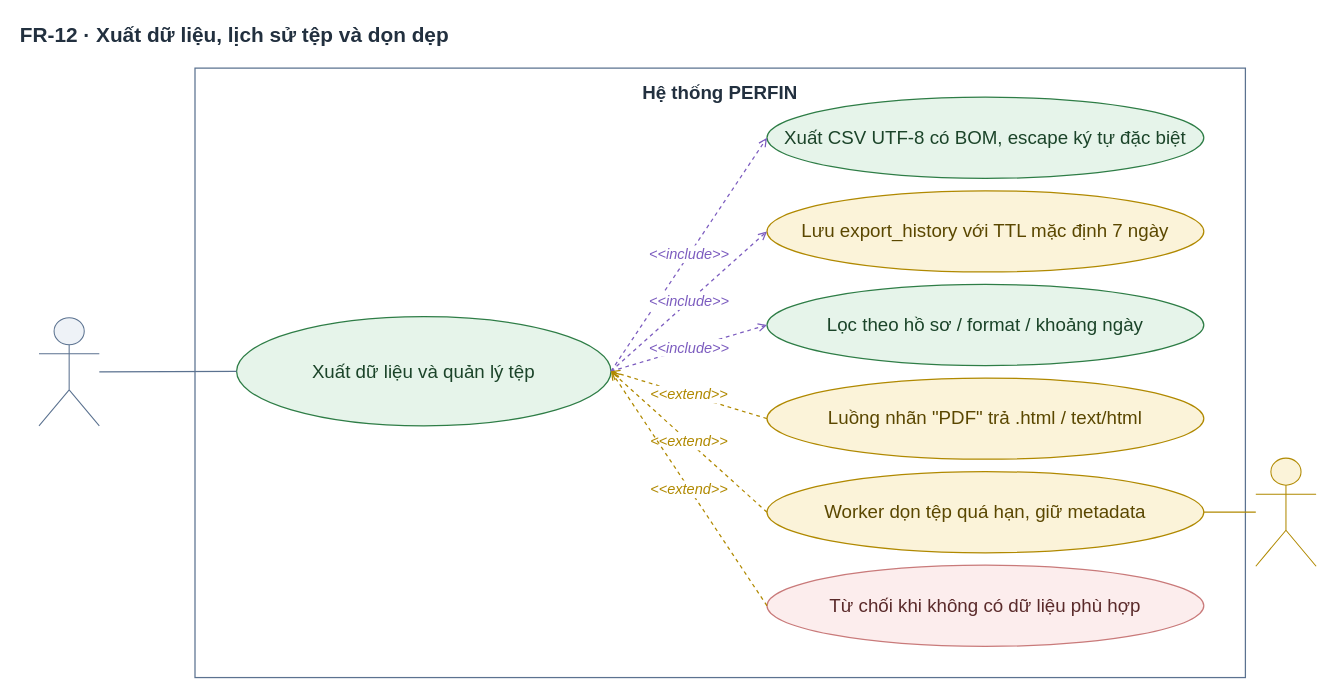
This 1334x696 diagram has some shape labels left out. Each missing label, with the box of its shape:
Người dùng: (38, 317, 99, 426)
Worker nền: (1255, 457, 1316, 566)
